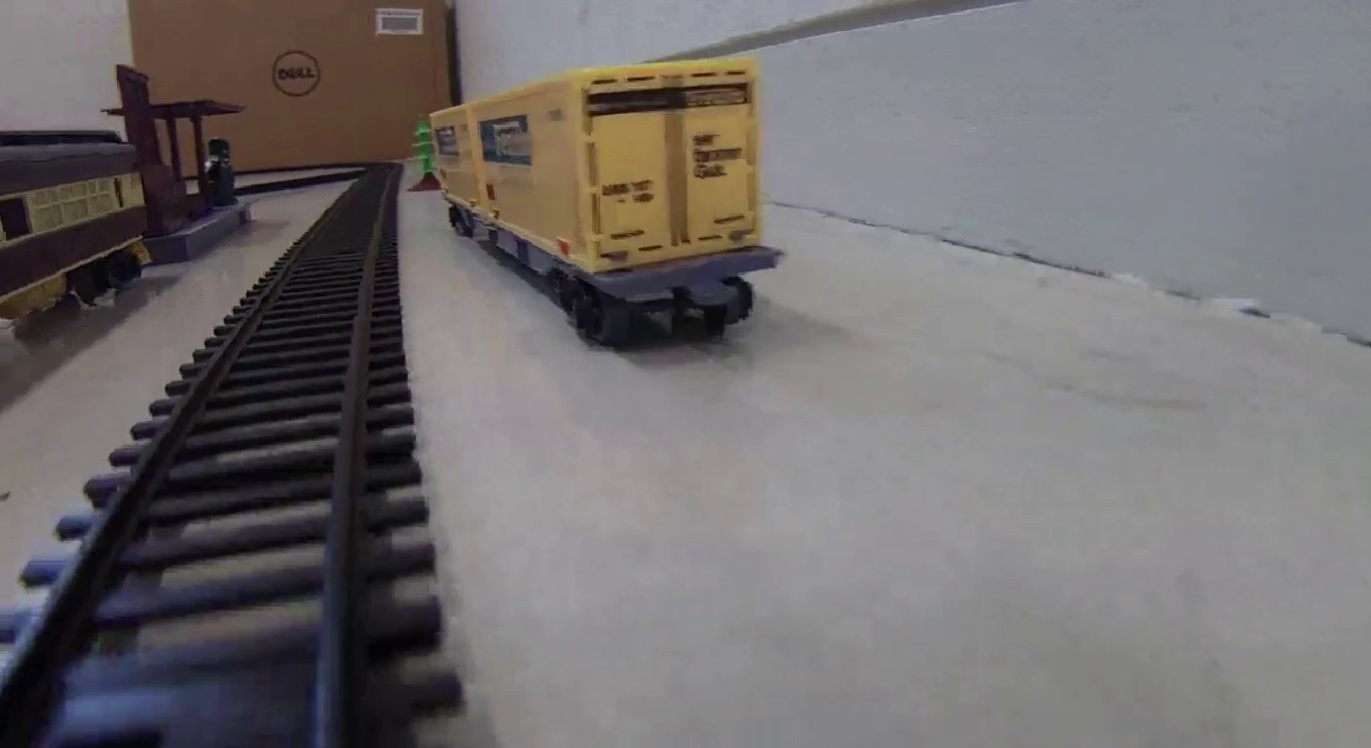people: (206, 137, 237, 207)
